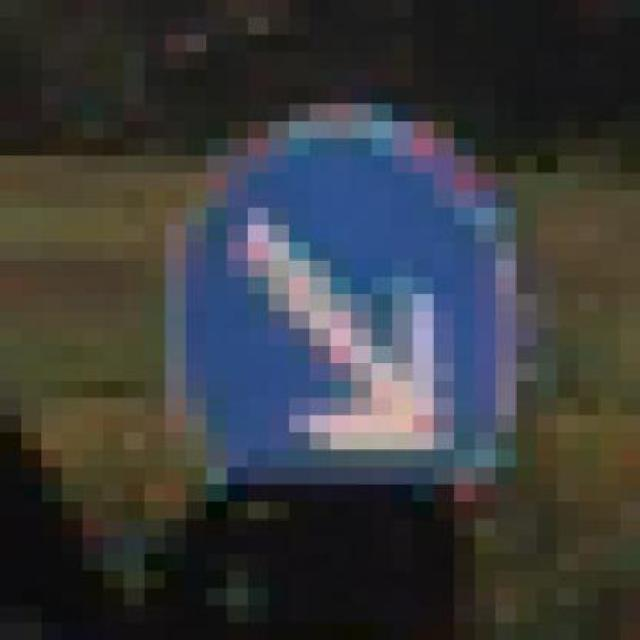Keep-Right: (145, 68, 537, 520)
